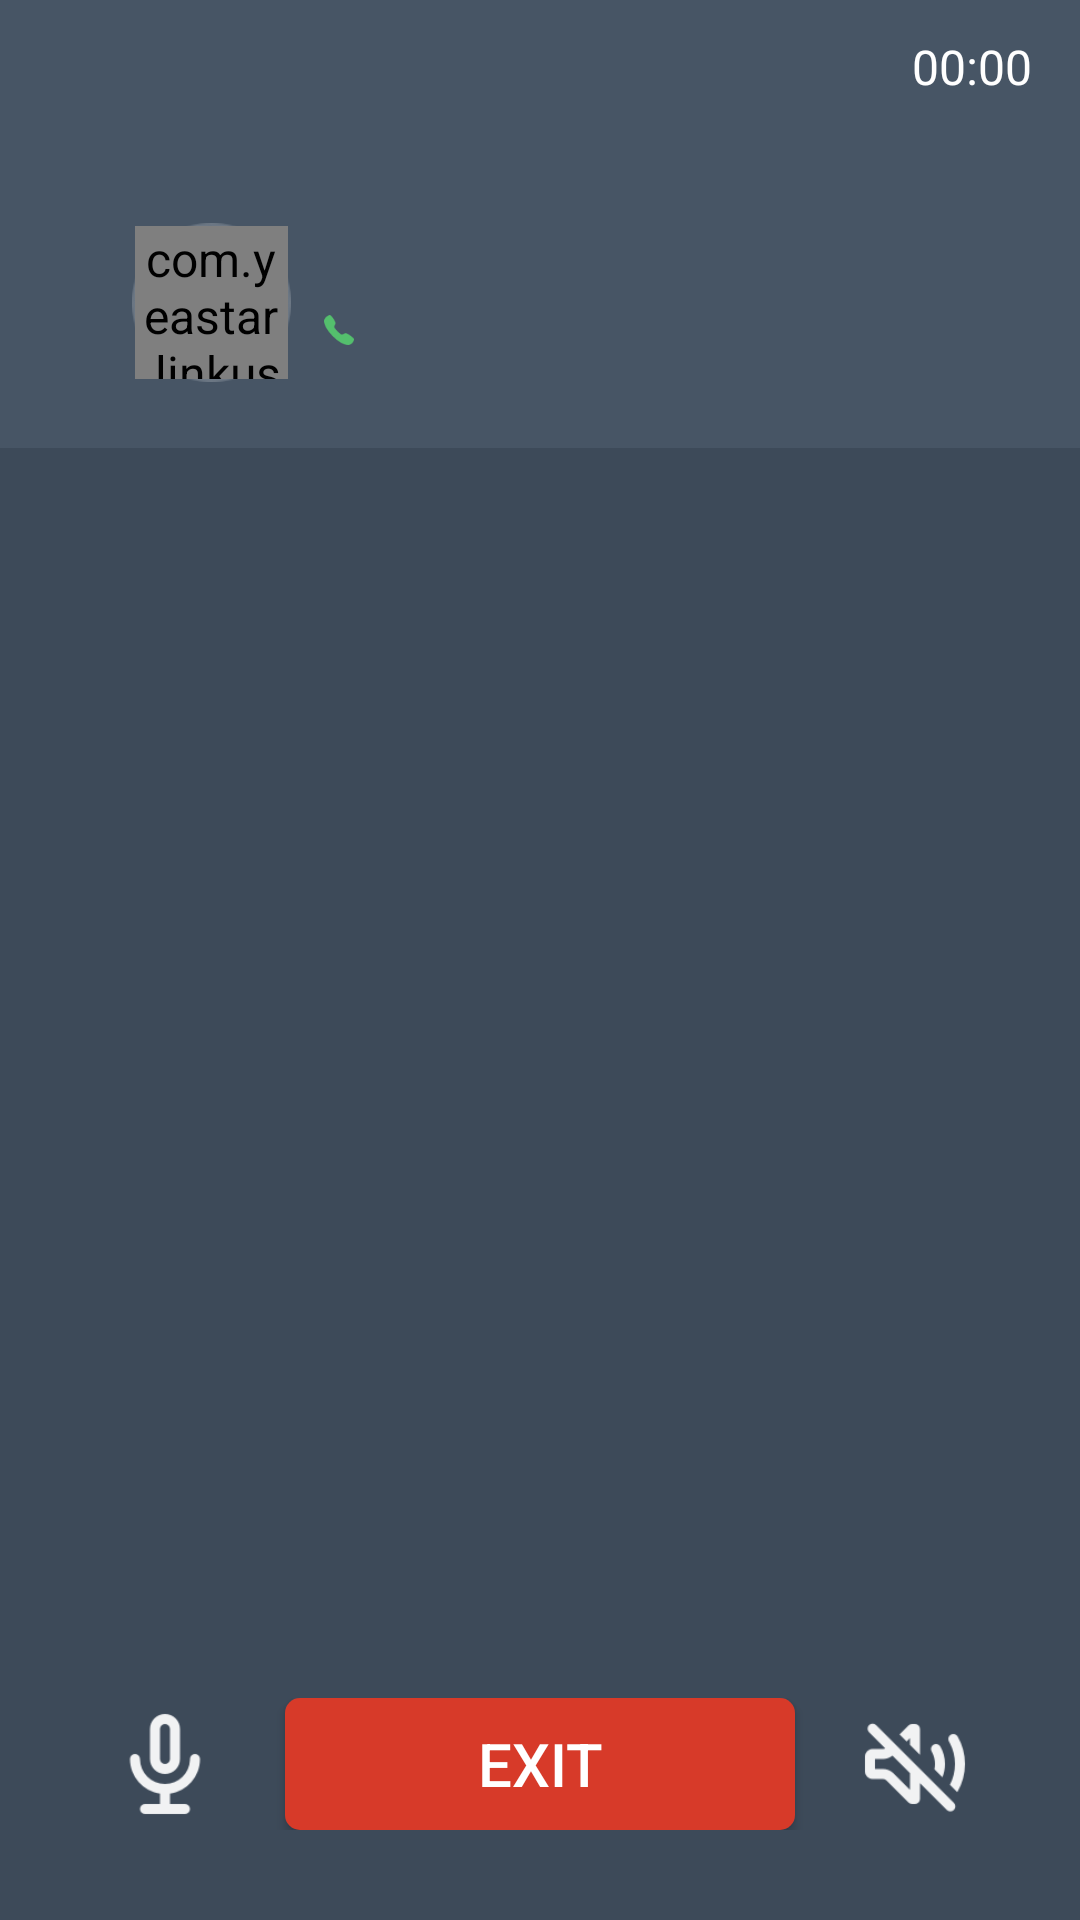

Icon bounding boxes for this 1080w x 1920h phone screenshot, format box=[x1, y1, x2, y2]:
conference status succ: box=[324, 315, 354, 345]
mute: box=[129, 1714, 201, 1814]
speaker: box=[865, 1723, 965, 1812]
